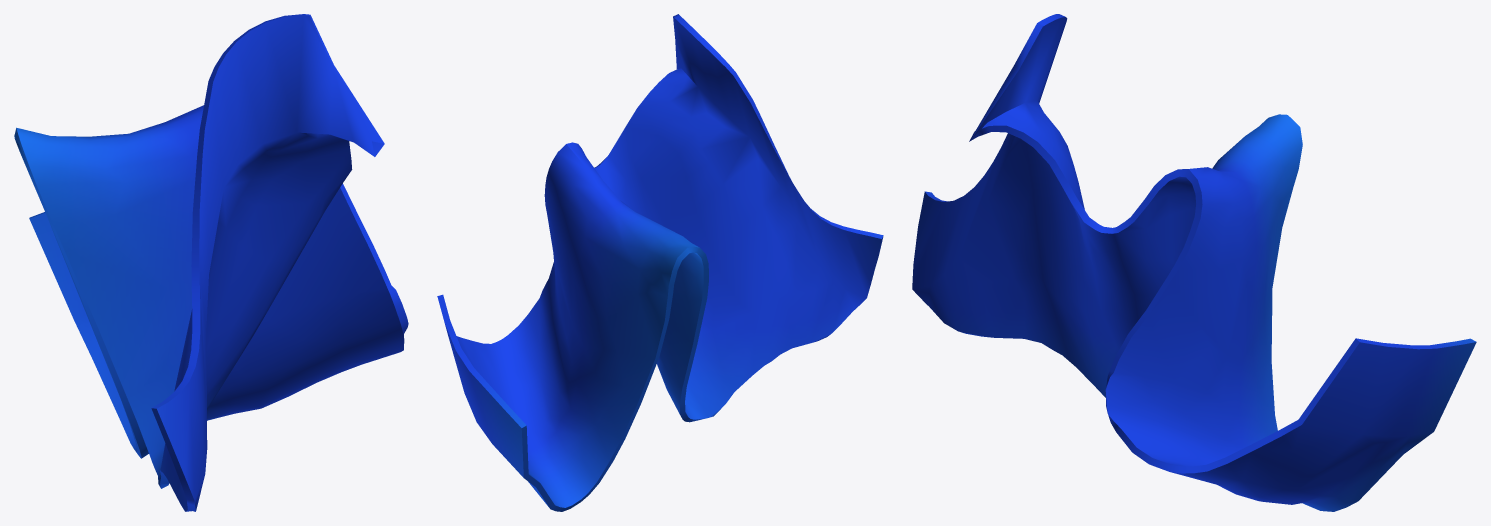
File: s1_lh_underglow_leg.fbx
3 views of the same model, side by side, from view 1: azimuth 30°, elevation 25°; view 2: azimuth 150°, elevation 25°; view 3: azimuth 270°, elevation 25° (orthographic). The views are drawn at different scales.
Parts seen in each view (by area): view 1: s1_lh_underglow_leg; view 2: s1_lh_underglow_leg; view 3: s1_lh_underglow_leg.
Boxes of the visible parts, x1=… form: s1_lh_underglow_leg: x1=14, y1=14, x2=408, y2=511; s1_lh_underglow_leg: x1=437, y1=14, x2=883, y2=511; s1_lh_underglow_leg: x1=912, y1=14, x2=1476, y2=511.
Size of the model in its own units: 160 by 222 by 230.
